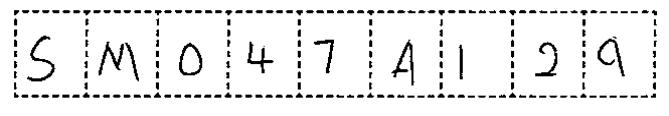0: (171, 39, 208, 83)
1: (448, 40, 478, 87)
2: (527, 37, 562, 85)
4: (241, 33, 278, 77)
7: (308, 31, 347, 76)
9: (592, 32, 630, 82)
A: (383, 33, 424, 86)
M: (90, 36, 148, 88)
S: (26, 28, 61, 84)
